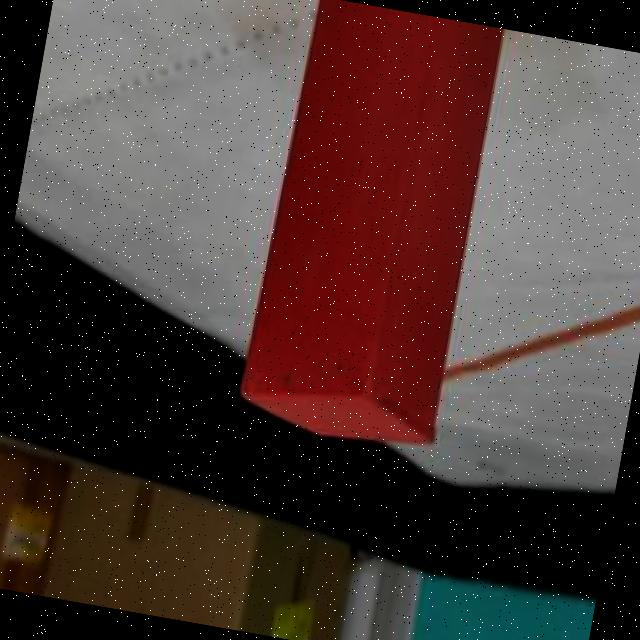redbox: (233, 0, 508, 454)
